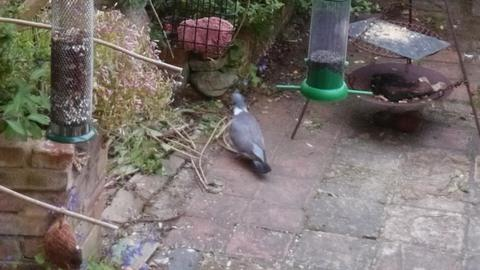wood pigeon: (228, 93, 272, 174)
